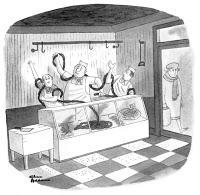person: (49, 51, 105, 106), (26, 58, 65, 110), (163, 61, 188, 134), (104, 60, 137, 95)
